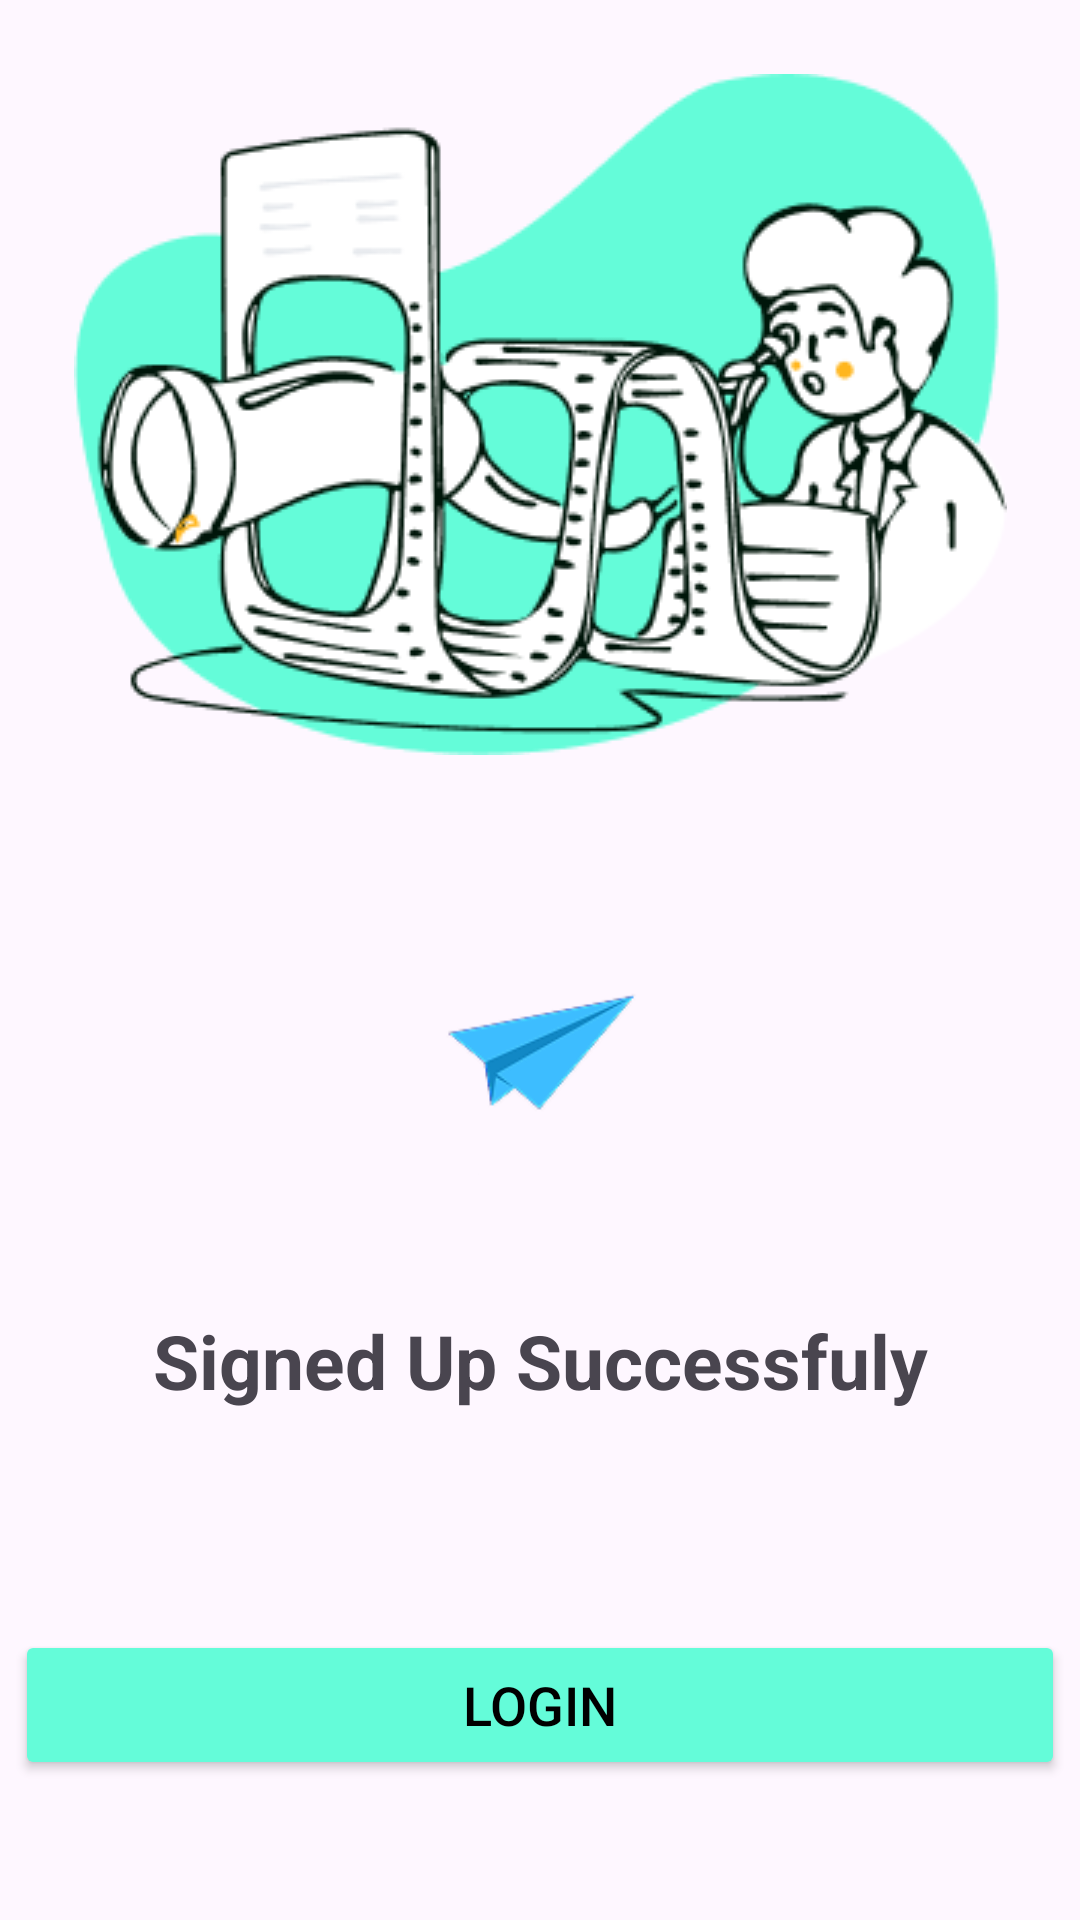

Screen size 1080w x 1920h. Icon name, then its center in pixels as point (x, y):
msgplane: point (541, 1052)
